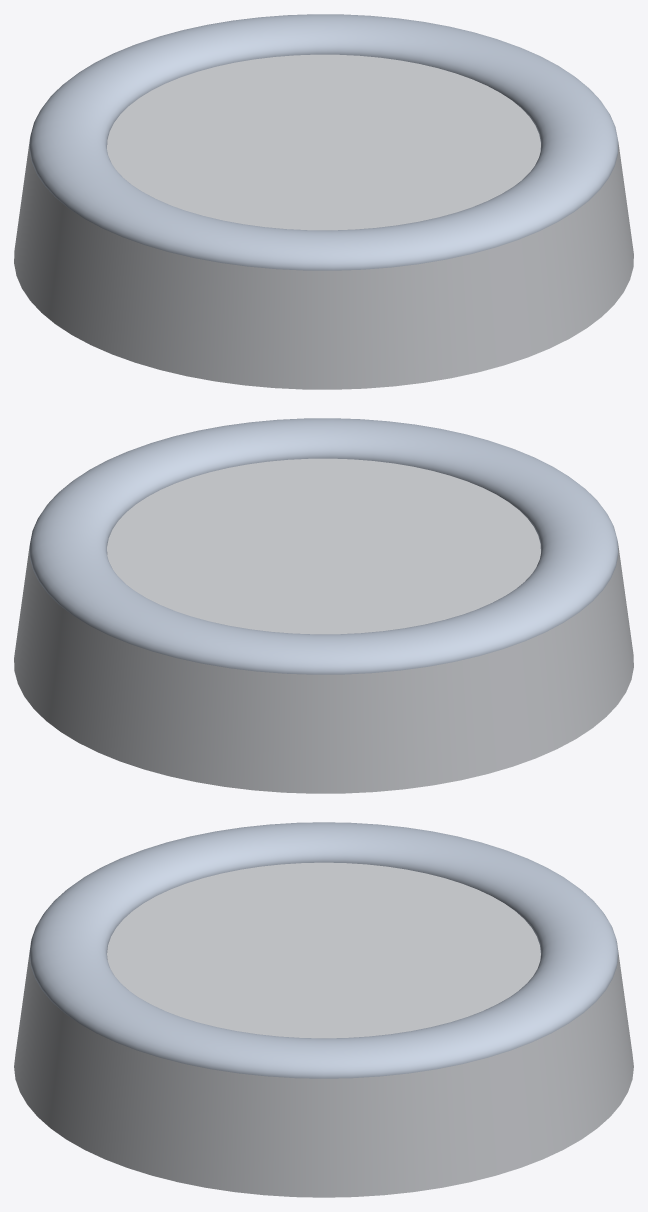
File: checkers_white.glb
3 views of the same model, one above another, from view 1: azimuth 30°, elevation 25°; view 2: azimuth 150°, elevation 25°; view 3: azimuth 270°, elevation 25° (orthographic).
Parts seen in each view (by area): view 1: Base, TopRidge; view 2: Base, TopRidge; view 3: Base, TopRidge.
Boxes of the visible parts, box(x1,y1,x2,y2) form: Base: box(14, 54, 633, 389); TopRidge: box(29, 14, 618, 270); Base: box(14, 458, 633, 793); TopRidge: box(29, 418, 618, 674); Base: box(14, 862, 633, 1197); TopRidge: box(29, 822, 618, 1078).
Size of the model in its own units: 0.8 by 0.185 by 0.8.
